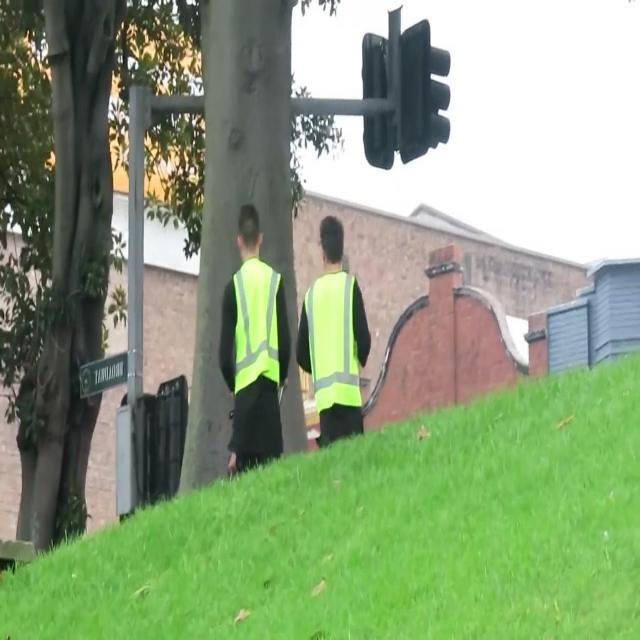Reflective-Jacket: (298, 265, 374, 424), (220, 257, 290, 404)
